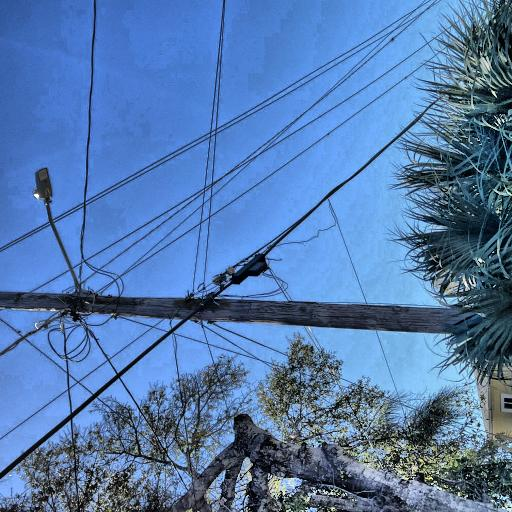pole: (29, 38, 110, 512)
street light: (89, 150, 209, 224)
